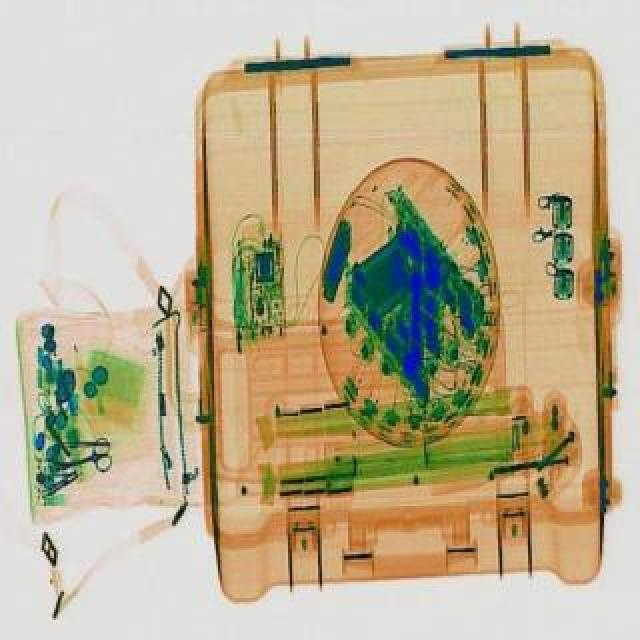pliers: (48, 432, 116, 476)
